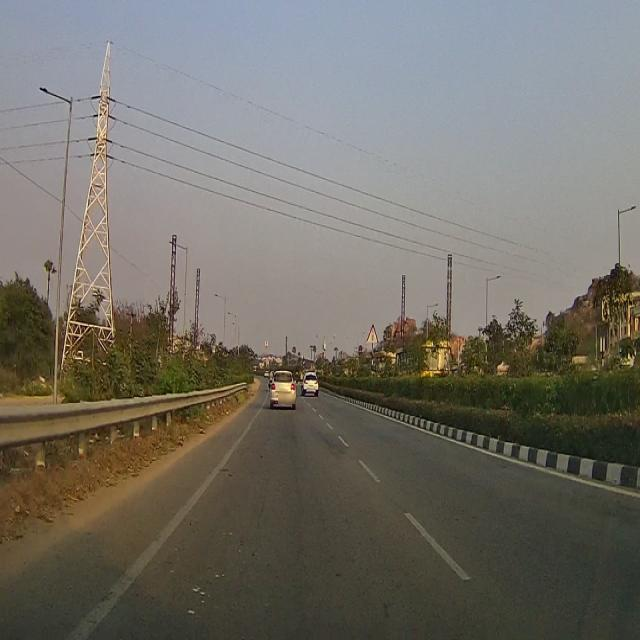gap-in-median: (367, 322, 379, 344)
